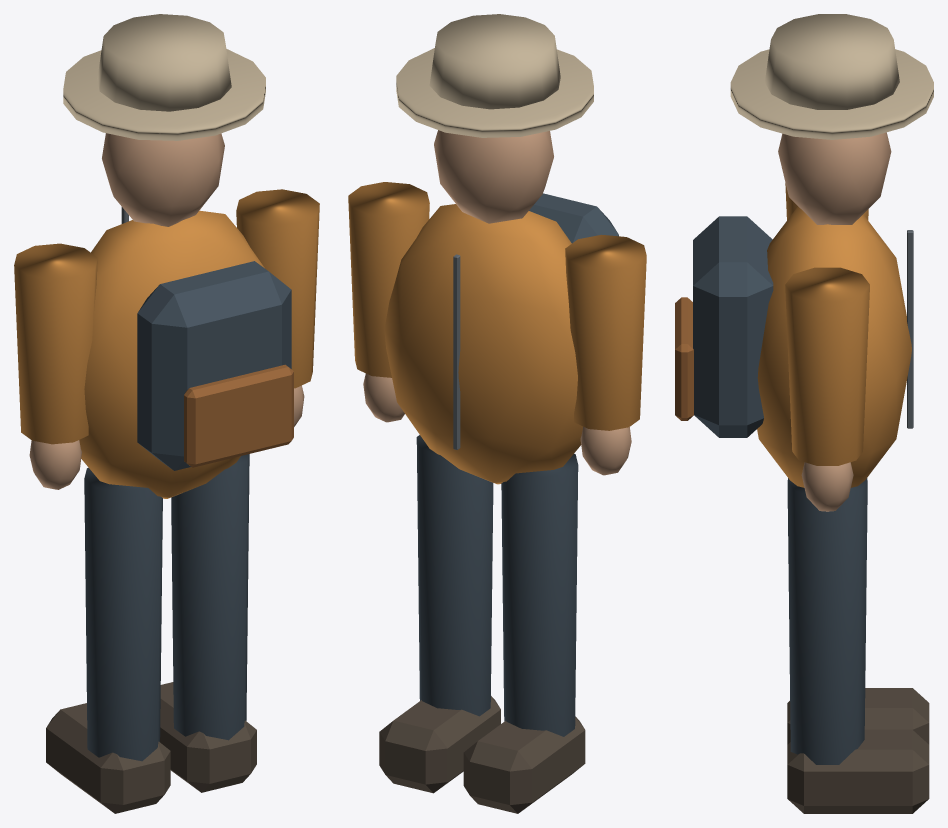
Rendered from traveller.glb.
3 views of the same model, side by side, from view 1: azimuth 30°, elevation 25°; view 2: azimuth 150°, elevation 25°; view 3: azimuth 270°, elevation 25° (orthographic). The views are drawn at different scales.
Visible parts, largest first — view 1: Jacket body, Left trouser, Right trouser, Travel backpack, Left sleeve, Hat crown, Backpack pocket, Face, Right sleeve, Hat brim, Left walking shoe, Right walking shoe (+1 smaller); view 2: Jacket body, Left trouser, Right trouser, Left sleeve, Hat crown, Right sleeve, Face, Hat brim, Left walking shoe, Right walking shoe, Travel backpack, Left hand (+2 smaller); view 3: Right trouser, Jacket body, Travel backpack, Right sleeve, Hat crown, Right walking shoe, Hat brim, Face, Left walking shoe, Backpack pocket, Right hand, Jacket zip.
Part boxes in pixels (x1=…): Jacket body: x1=79, y1=210, x2=264, y2=498; Left trouser: x1=84, y1=467, x2=162, y2=761; Right trouser: x1=171, y1=454, x2=249, y2=740; Travel backpack: x1=137, y1=261, x2=291, y2=470; Left sleeve: x1=14, y1=243, x2=97, y2=444; Hat crown: x1=97, y1=14, x2=231, y2=111; Backpack pocket: x1=184, y1=364, x2=293, y2=467; Face: x1=102, y1=133, x2=224, y2=226; Right sleeve: x1=236, y1=189, x2=319, y2=388; Hat brim: x1=63, y1=49, x2=265, y2=140; Left walking shoe: x1=46, y1=703, x2=170, y2=813; Right walking shoe: x1=160, y1=682, x2=256, y2=792; Jacket body: x1=384, y1=204, x2=582, y2=484; Left trouser: x1=501, y1=453, x2=578, y2=736; Right trouser: x1=416, y1=435, x2=493, y2=716; Left sleeve: x1=565, y1=234, x2=646, y2=430; Hat crown: x1=429, y1=14, x2=560, y2=109; Right sleeve: x1=348, y1=182, x2=429, y2=377; Face: x1=434, y1=130, x2=553, y2=223; Hat brim: x1=396, y1=48, x2=593, y2=137; Left walking shoe: x1=463, y1=716, x2=585, y2=813; Right walking shoe: x1=379, y1=696, x2=500, y2=793; Travel backpack: x1=529, y1=193, x2=618, y2=243; Left hand: x1=580, y1=426, x2=631, y2=475; Right trouser: x1=787, y1=479, x2=867, y2=764; Jacket body: x1=757, y1=206, x2=911, y2=487; Travel backpack: x1=693, y1=216, x2=773, y2=437; Right sleeve: x1=785, y1=267, x2=869, y2=465; Hat crown: x1=765, y1=14, x2=899, y2=109; Right walking shoe: x1=787, y1=729, x2=929, y2=813; Hat brim: x1=730, y1=49, x2=933, y2=139; Face: x1=778, y1=132, x2=891, y2=224; Left walking shoe: x1=787, y1=688, x2=929, y2=744; Backpack pocket: x1=675, y1=297, x2=693, y2=420; Right hand: x1=801, y1=462, x2=853, y2=511; Jacket zip: x1=907, y1=230, x2=913, y2=428.
Bounding box in the file's own units: 0.7112 × 1.74 × 0.548.
